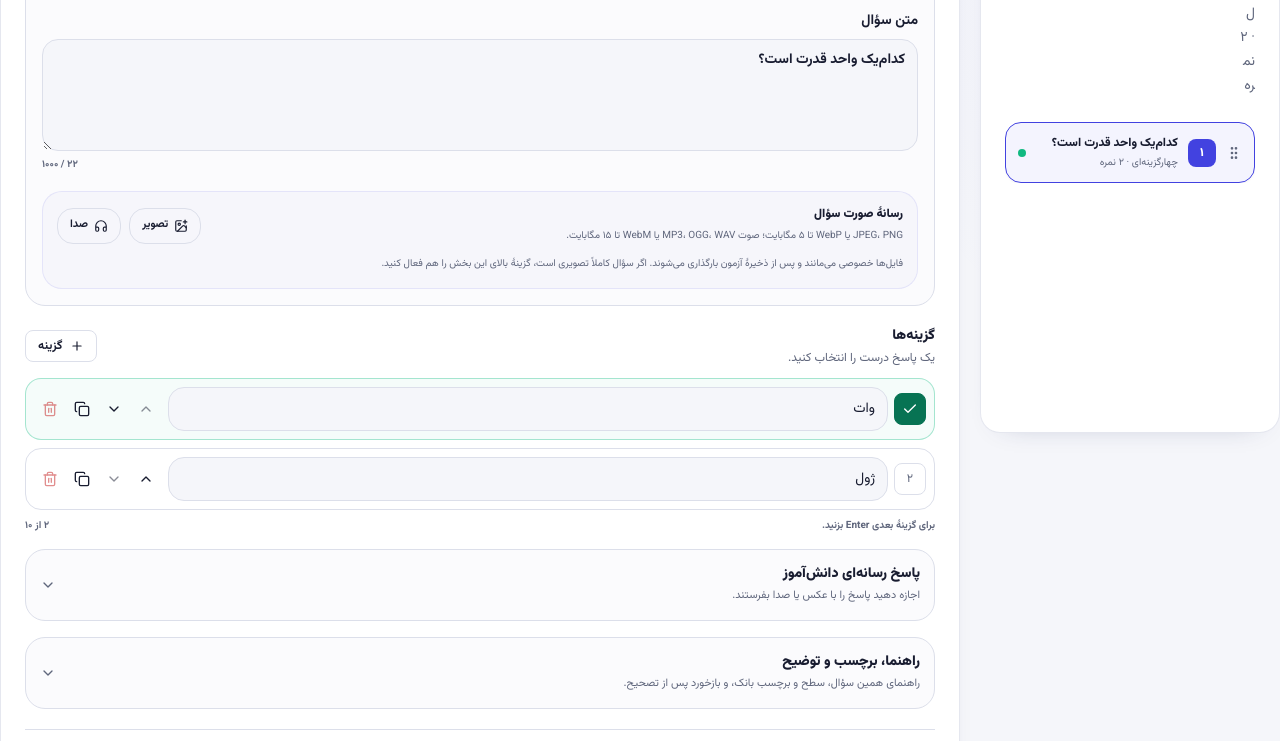
it: optional sections stay out of the way › keeps the answer-media and metadata sections closed on a plain question
This screenshot has width=1280, height=741.
(page scrolled)
Expected: the text box labelled "متن سؤال ۲۲ / ۱۰۰۰" is shown, left=42, top=38, right=918, bottom=150
Expected: the number of fields named "متن گزینه" is 2, left=168, top=386, right=888, bottom=430; left=168, top=456, right=888, bottom=500
Click the button "پاسخ رسانه‌ای دانش‌آموز" at point(851, 574), box left=26, top=550, right=934, bottom=620
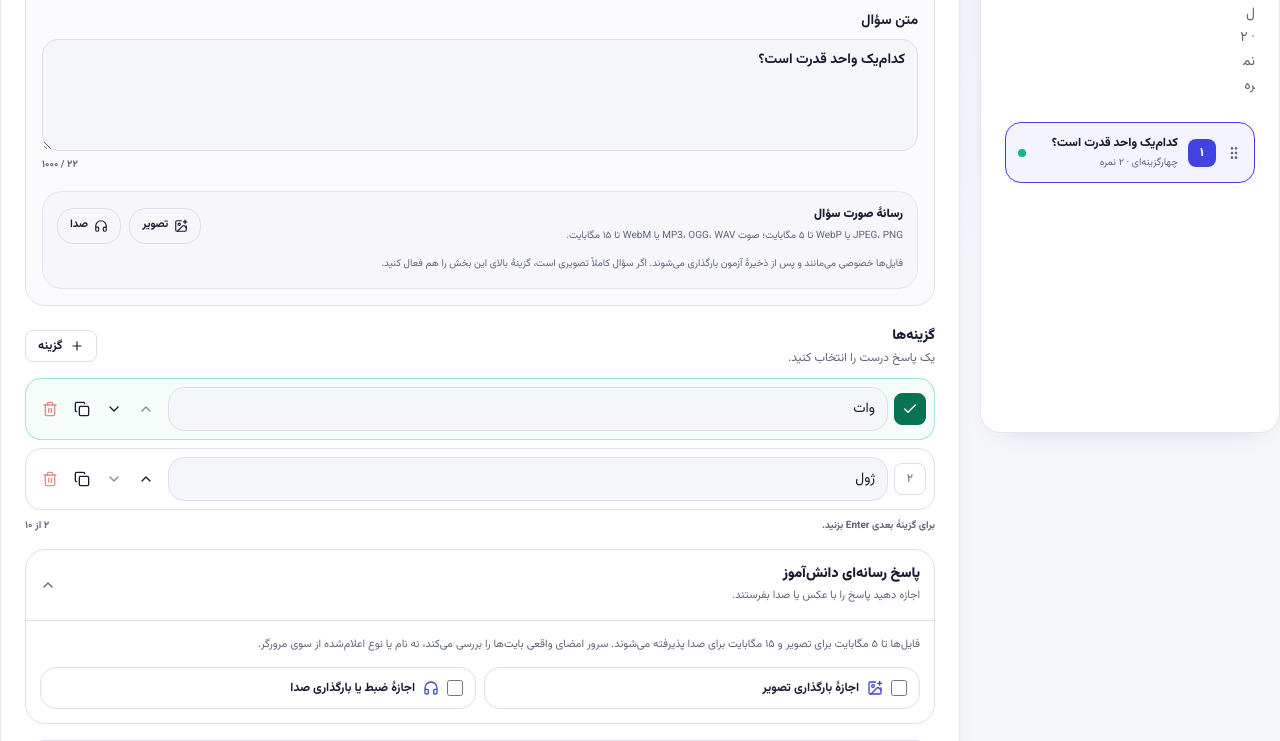
Result: the button "پاسخ رسانه‌ای دانش‌آموز" is expanded at left=26, top=550, right=934, bottom=620
Result: the text "اجازهٔ بارگذاری تصویر" is shown at left=484, top=666, right=920, bottom=708
